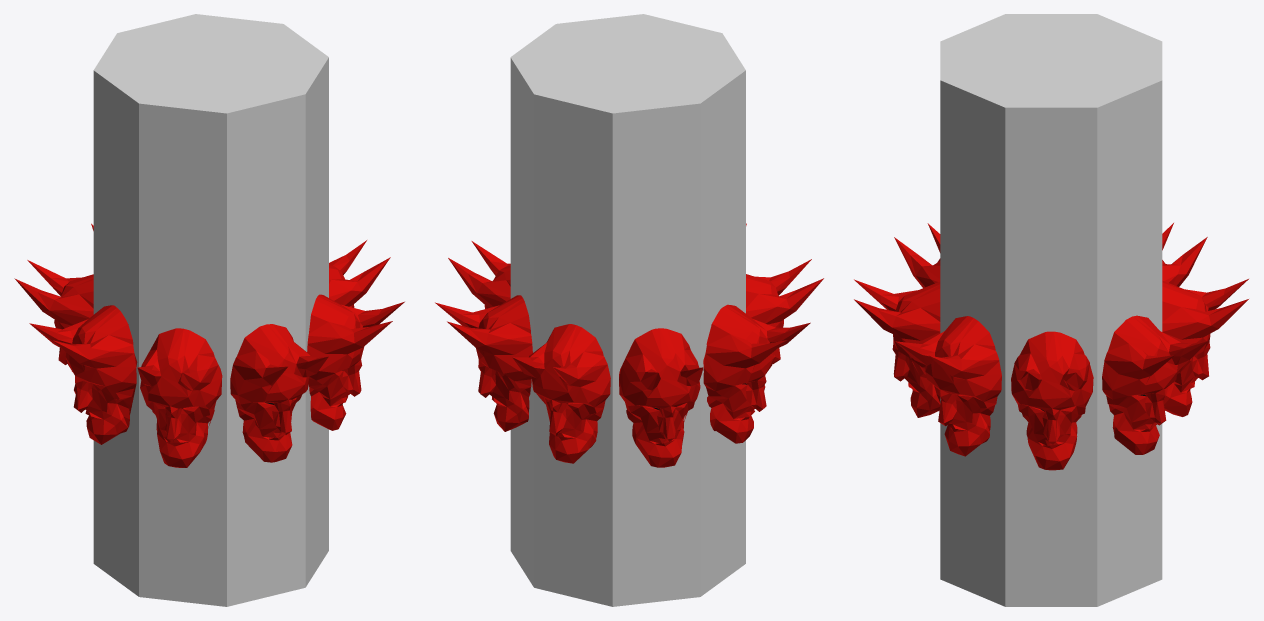
File: centreCollum.fbx
3 renders of one model, left to right at view 1: azimuth 30°, elevation 25°; view 2: azimuth 150°, elevation 25°; view 3: azimuth 270°, elevation 25°, orthographic.
Parts seen in each view (by area): view 1: Cylinder, Head.002, Head.003, Head.001, Head.004, Head, Head.005; view 2: Cylinder, Head, Head.007, Head.001, Head.006, Head.002, Head.005; view 3: Cylinder, Head.005, Head.006, Head.004, Head.003, Head.007, Head.002, Head.
Boxes of the visible parts, x1,y1,x2,y2 form: Cylinder: [93, 14, 328, 606]; Head.002: [137, 328, 222, 467]; Head.003: [230, 324, 328, 462]; Head.001: [29, 305, 137, 444]; Head.004: [307, 294, 404, 430]; Head: [14, 260, 93, 394]; Head.005: [329, 240, 390, 307]; Cylinder: [510, 14, 745, 606]; Head: [619, 328, 703, 467]; Head.007: [512, 324, 610, 463]; Head.001: [703, 304, 810, 443]; Head.006: [435, 295, 532, 431]; Head.002: [746, 259, 823, 390]; Head.005: [448, 241, 510, 308]; Cylinder: [940, 14, 1162, 606]; Head.005: [1011, 331, 1093, 470]; Head.006: [1102, 315, 1208, 454]; Head.004: [895, 316, 1001, 456]; Head.003: [854, 279, 940, 417]; Head.007: [1162, 279, 1248, 416]; Head.002: [894, 223, 940, 287]; Head: [1162, 223, 1207, 286].
Bounding box in the file's own units: 304 × 423 × 304.
